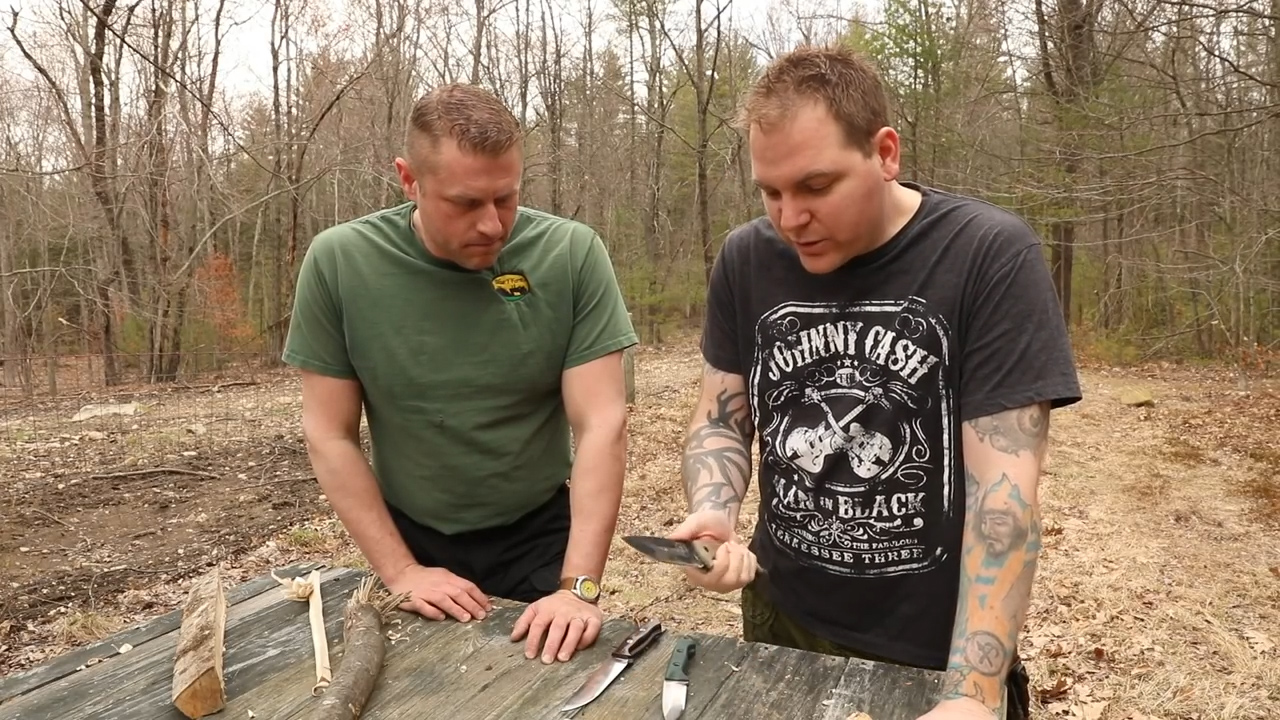knife: (603, 508, 765, 596)
